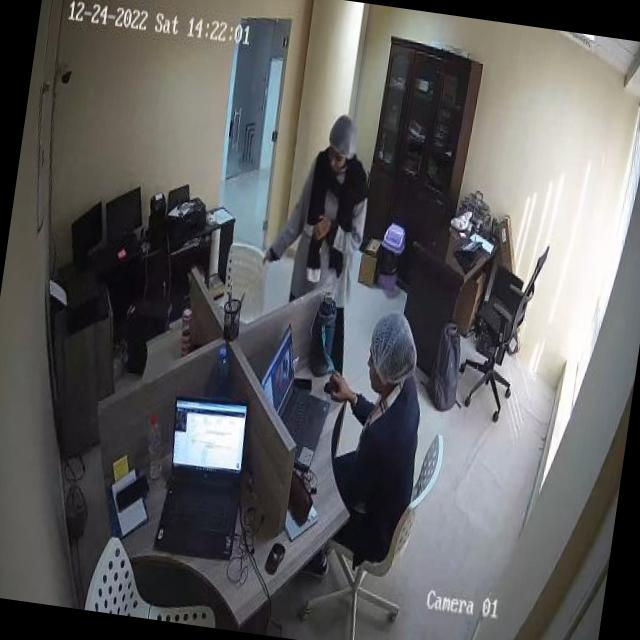hairnet: (367, 312, 424, 387), (330, 113, 361, 162)
